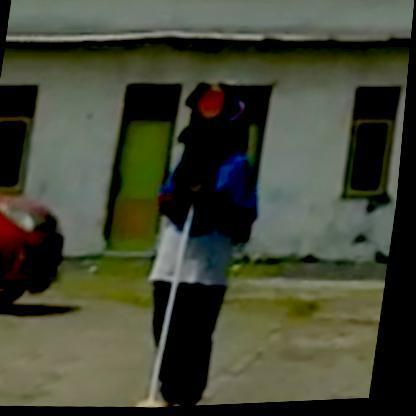red: (172, 80, 235, 202)
